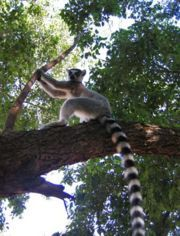cat: (34, 65, 144, 235)
